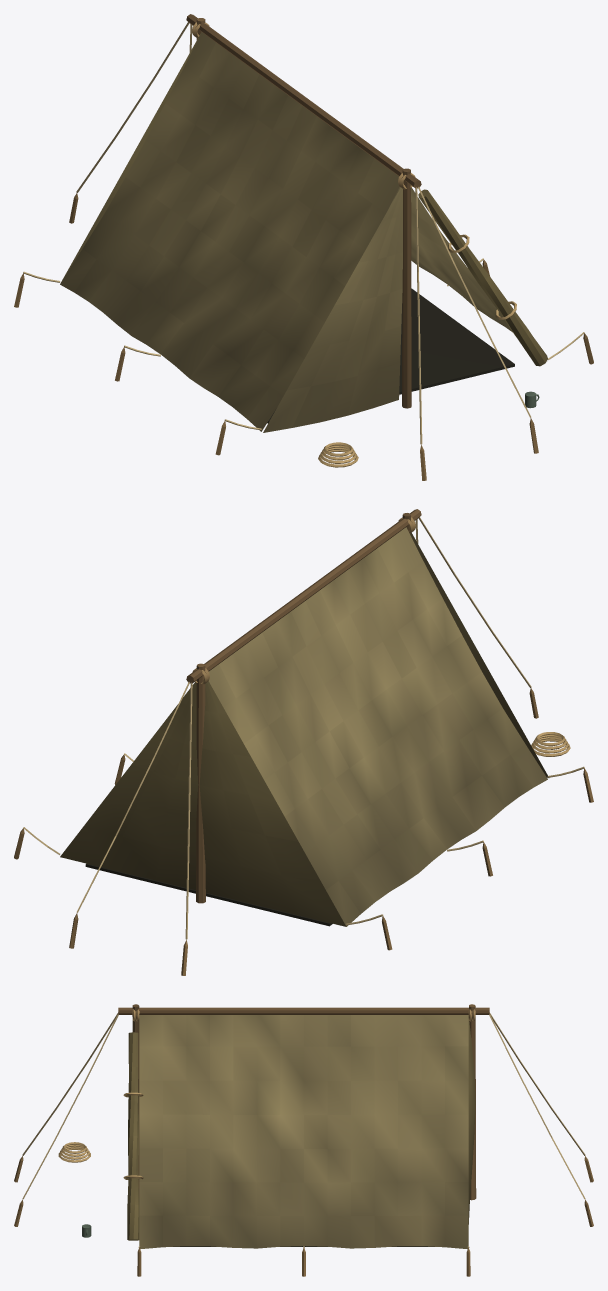
File: tent.glb
3 renders of one model, top to bottom at view 1: azimuth 30°, elevation 25°; view 2: azimuth 150°, elevation 25°; view 3: azimuth 270°, elevation 25°, orthographic. The views are drawn at different scales.
Parts seen in each view (by area): view 1: Body.002; view 2: Body.002; view 3: Body.002.
Part boxes in pixels (box(x1,y1,x2,y2)): Body.002: box(14, 14, 593, 480); Body.002: box(14, 509, 593, 975); Body.002: box(14, 1004, 593, 1276).
Bounding box in the file's own units: 3.04 × 1.86 × 4.93.
